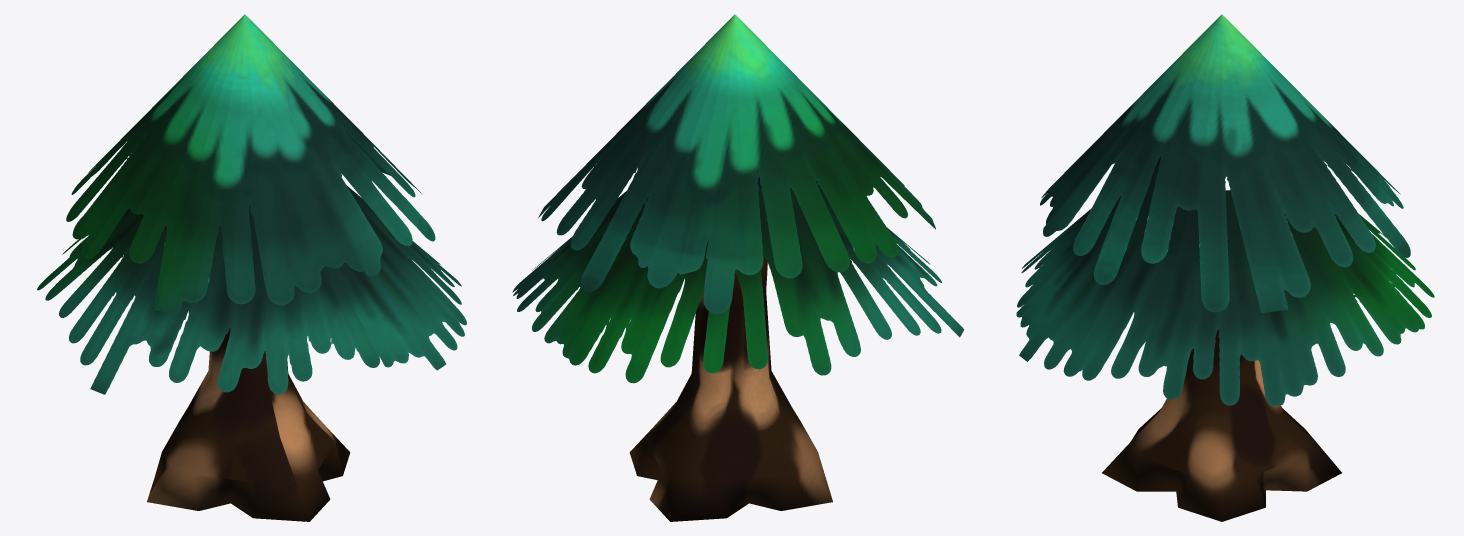
File: pine_small.glb
3 views of the same model, side by side, from view 1: azimuth 30°, elevation 25°; view 2: azimuth 150°, elevation 25°; view 3: azimuth 270°, elevation 25° (orthographic).
Visible parts, largest first — view 1: Root; view 2: Root; view 3: Root.
Boxes of the visible parts, left/top/right/bottom form: Root: left=37, top=14, right=466, bottom=521; Root: left=512, top=14, right=964, bottom=521; Root: left=1016, top=14, right=1434, bottom=521.
Size of the model in its own units: 8.7 by 9.63 by 8.7.
1 material, 1 textured.
